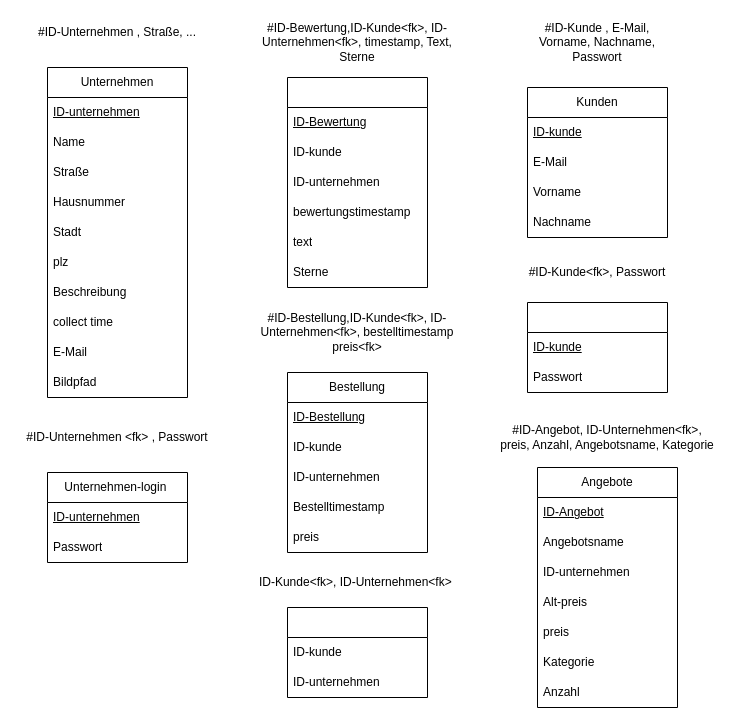
This 734x725 diagram has some shape labels left out. The box of each missing label's shape, as (x1, y1, x2, y2) in pixels:
Bewertungen: (286, 76, 428, 288)
Favorites: (286, 606, 428, 698)
Kunden-login: (526, 302, 668, 392)
